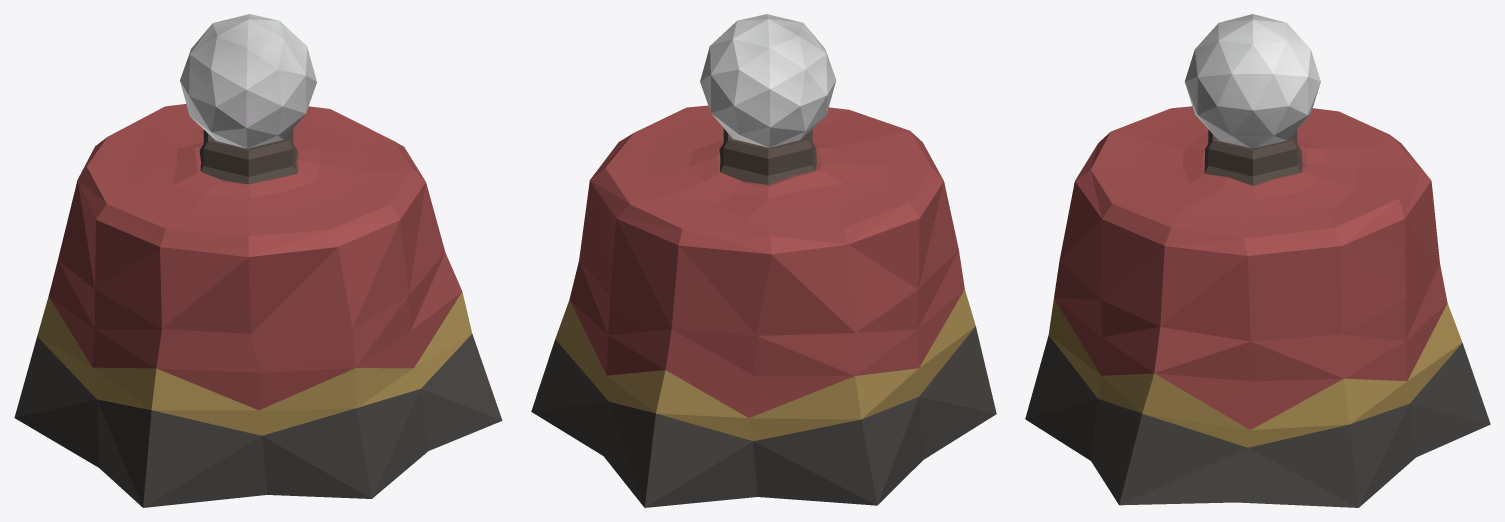
File: fortuneTeller.fbx
3 views of the same model, side by side, from view 1: azimuth 30°, elevation 25°; view 2: azimuth 150°, elevation 25°; view 3: azimuth 270°, elevation 25° (orthographic).
Visible parts, largest first — view 1: fortuneTeller; view 2: fortuneTeller; view 3: fortuneTeller.
Part boxes in pixels (box(x1,y1,x2,y2)): fortuneTeller: box(14, 14, 502, 507); fortuneTeller: box(531, 14, 996, 507); fortuneTeller: box(1025, 14, 1490, 507).
Bounding box in the file's own units: 1.58 × 1.72 × 1.79.
